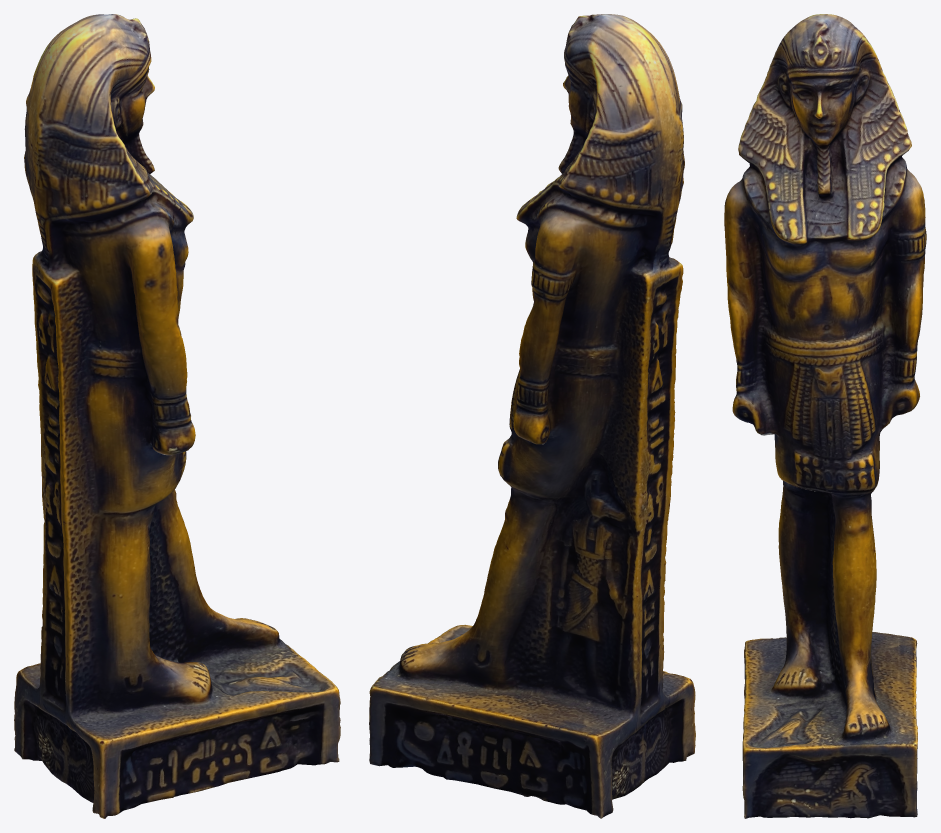
File: firavun-yer.glb
3 renders of one model, left to right at view 1: azimuth 30°, elevation 25°; view 2: azimuth 150°, elevation 25°; view 3: azimuth 270°, elevation 25°, orthographic. The views are drawn at different scales.
Visible parts, largest first — view 1: Mesh_0_Part_0.001; view 2: Mesh_0_Part_0.001; view 3: Mesh_0_Part_0.001.
Part boxes in pixels (x1,y1,x2,y2): Mesh_0_Part_0.001: [14, 14, 340, 818]; Mesh_0_Part_0.001: [369, 14, 695, 818]; Mesh_0_Part_0.001: [724, 14, 926, 818].
Bounding box in the file's own units: 0.0418 × 0.1146 × 0.0295.
1 material, 1 textured.
